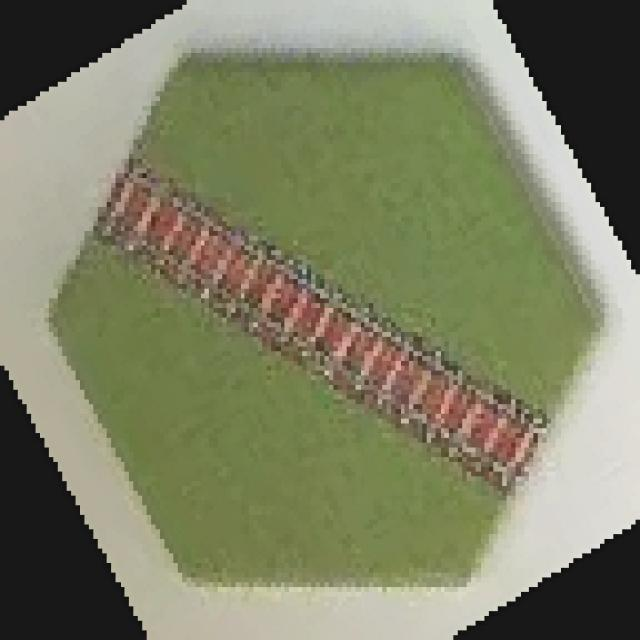3_2: (54, 54, 599, 582)
